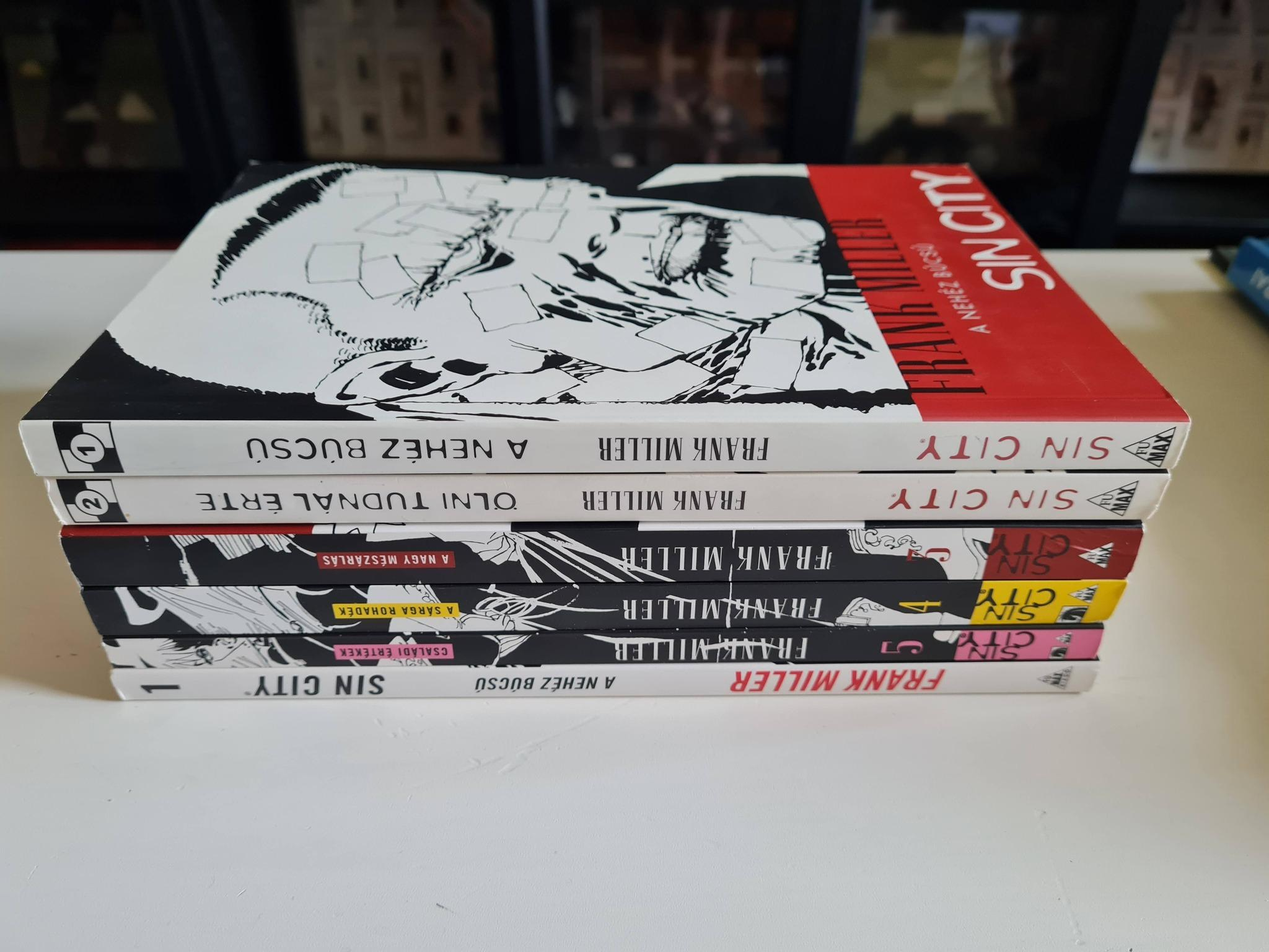comic: (22, 163, 1187, 475)
